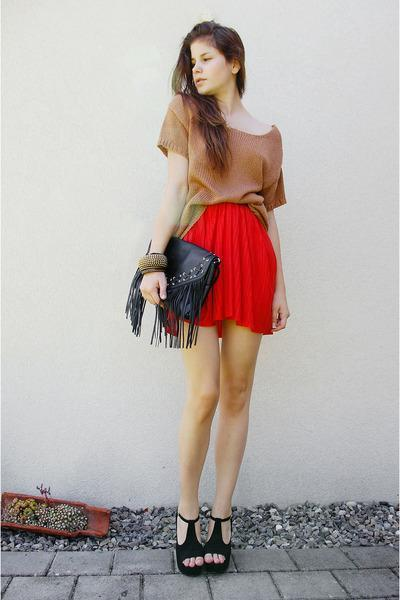bag: (125, 236, 220, 348)
shirt: (157, 95, 285, 219)
shoe: (174, 508, 238, 578)
skirt: (183, 201, 276, 334)
